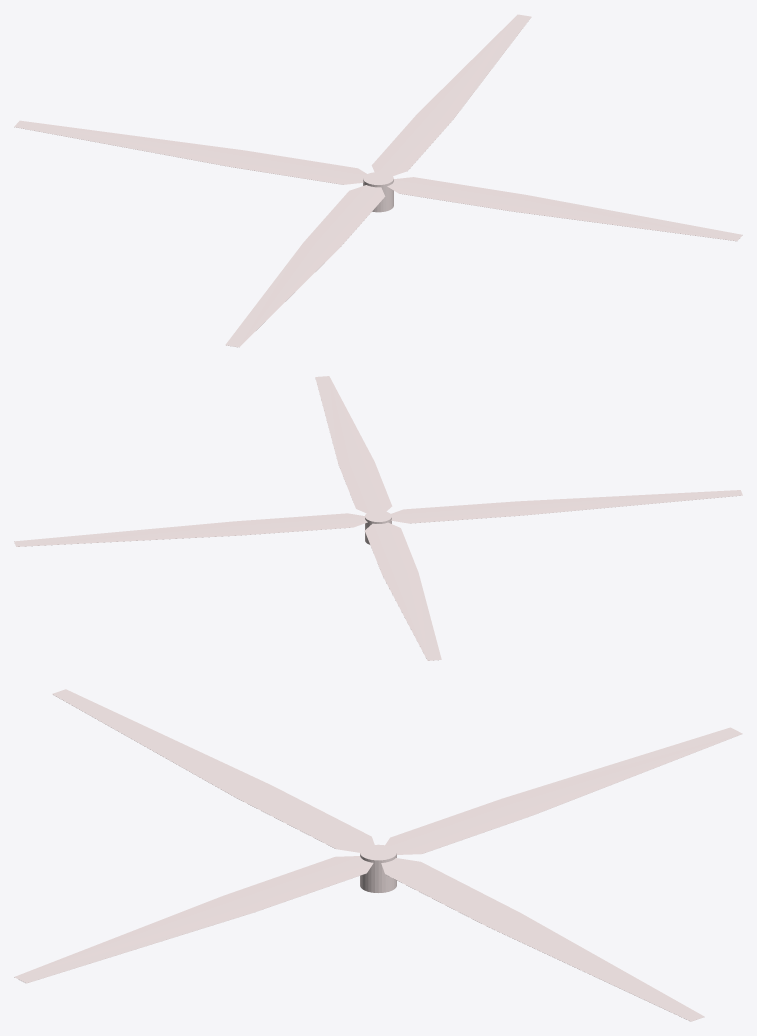
File: hane.obj
The picture shows the model from 3 angles, top to bottom: view 1: azimuth 30°, elevation 25°; view 2: azimuth 150°, elevation 25°; view 3: azimuth 270°, elevation 25°; orthographic projection. The views are drawn at different scales.
Visible parts, largest first — view 1: 円柱; view 2: 円柱; view 3: 円柱.
Part boxes in pixels (box(x1,y1,x2,y2)): 円柱: box(14, 14, 742, 347); 円柱: box(14, 376, 742, 660); 円柱: box(14, 689, 742, 1021).
Bounding box in the file's own units: 4.25 × 0.1948 × 3.93.
1 material, 1 textured.
